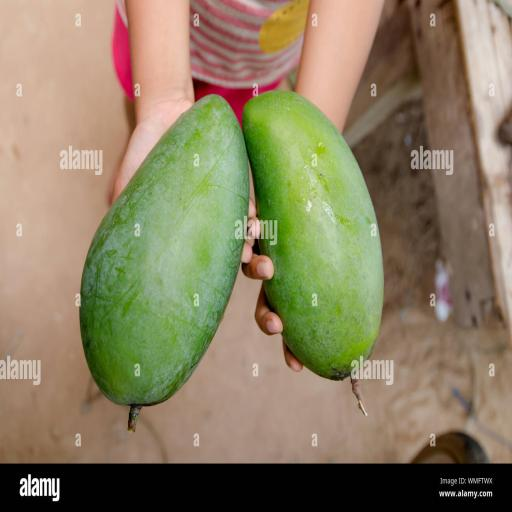mango: (80, 95, 248, 430), (243, 91, 383, 379)
